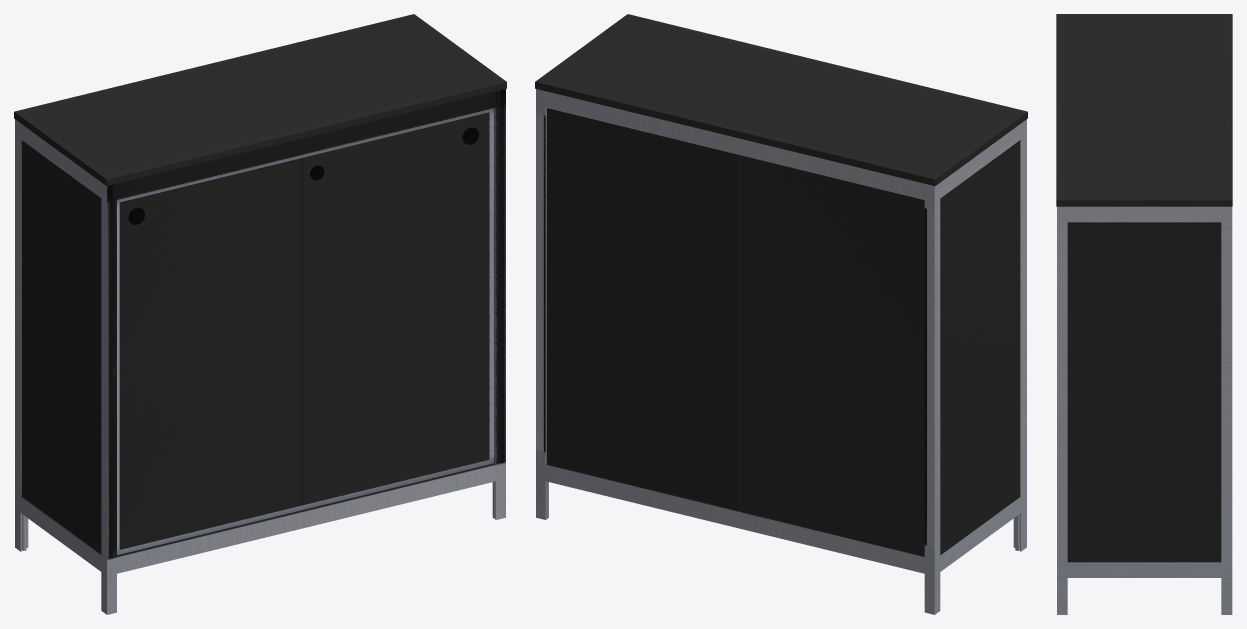
The model's file is bern_black_aluminium.glb.
3 views of the same model, side by side, from view 1: azimuth 30°, elevation 25°; view 2: azimuth 150°, elevation 25°; view 3: azimuth 270°, elevation 25° (orthographic). The views are drawn at different scales.
Visible parts, largest first — view 1: bern-black; view 2: bern-black; view 3: bern-black.
Boxes of the visible parts, bbox=[...] form: bern-black: bbox=[14, 14, 506, 614]; bern-black: bbox=[535, 14, 1027, 614]; bern-black: bbox=[1056, 14, 1232, 614].
Size of the model in its own units: 1 by 1.04 by 0.4027.
Materials: 1 (1 with a texture image).
